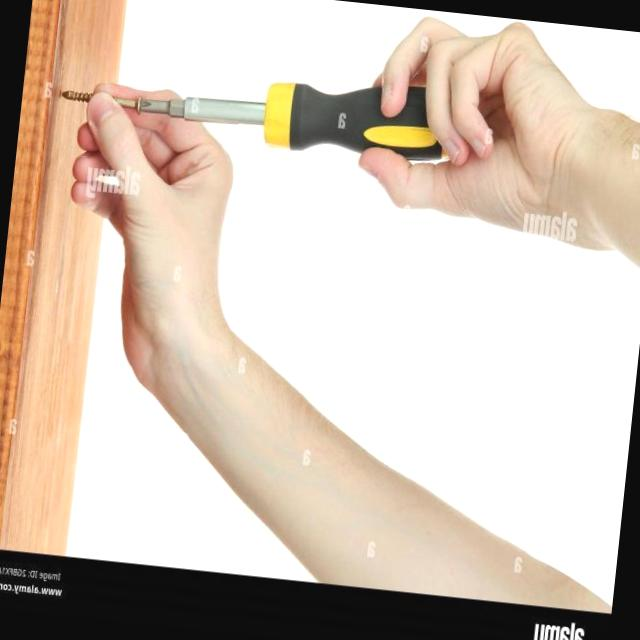screwdriver: (115, 83, 441, 160), (61, 90, 91, 102)
